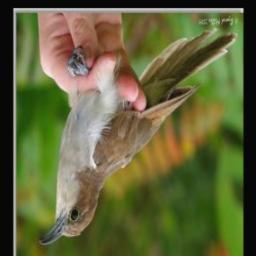Cuckoo: (40, 29, 239, 248)
